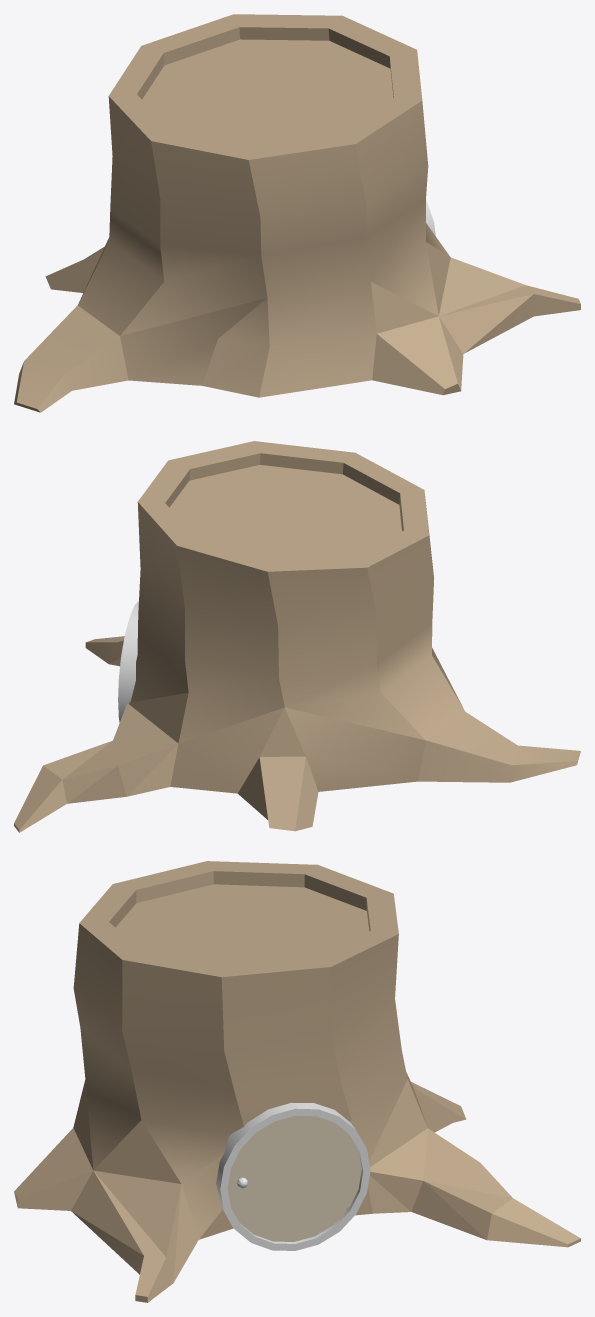
File: treehouse2.fbx
The picture shows the model from 3 angles, top to bottom: view 1: azimuth 30°, elevation 25°; view 2: azimuth 150°, elevation 25°; view 3: azimuth 270°, elevation 25°; orthographic projection. The views are drawn at different scales.
Visible parts, largest first — view 1: pCylinder1; view 2: pCylinder1, pCylinder2; view 3: pCylinder1, pCylinder2.
Part boxes in pixels (x1,y1,x2,y2): pCylinder1: (14, 14, 580, 412); pCylinder1: (14, 441, 580, 832); pCylinder2: (118, 600, 138, 722); pCylinder1: (14, 861, 580, 1302); pCylinder2: (216, 1102, 370, 1250).
Bounding box in the file's own units: 30.75 × 14.46 × 27.14.
